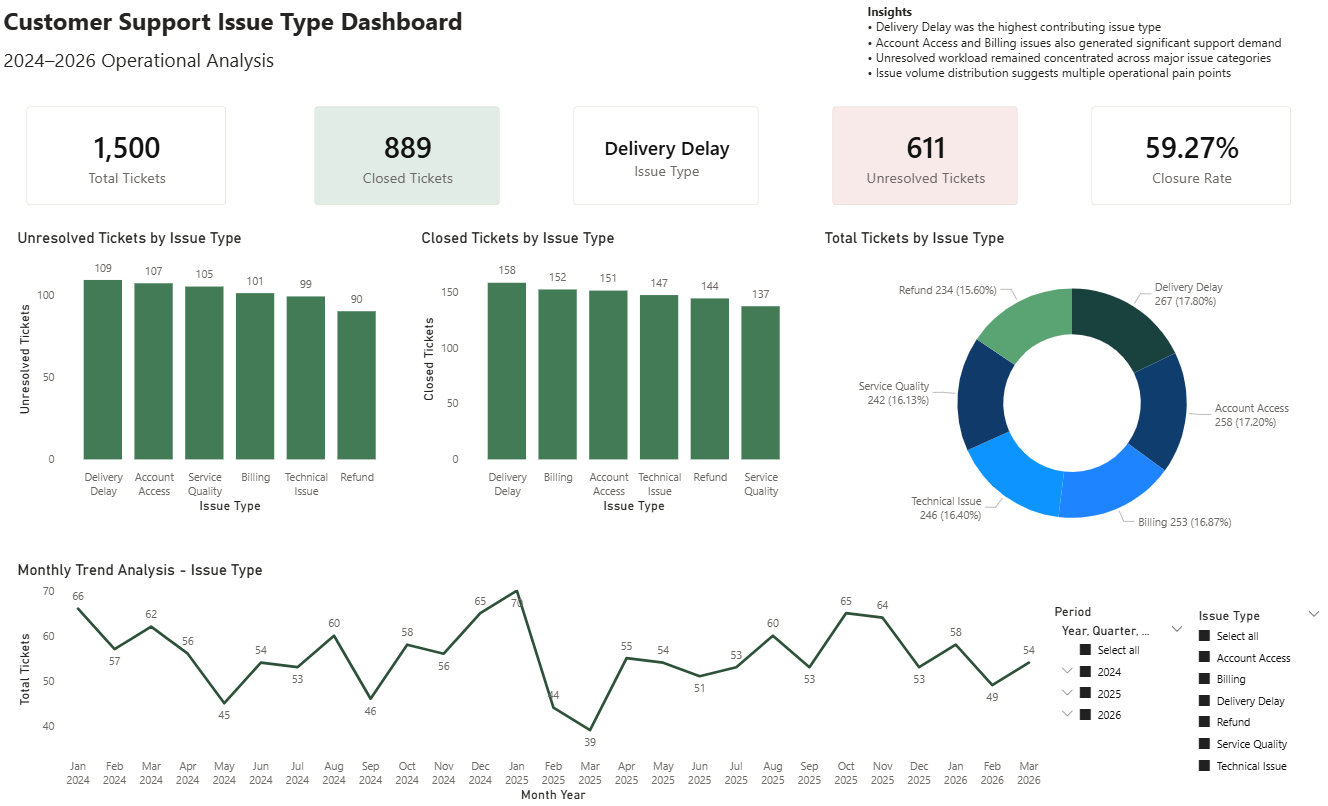

What the dashboard file says about the page in this screenshot:
{"tool":"powerbi","page":{"name":"Issue Type Analysis","canvas":[1480,900],"ordinal":1},"visuals":[{"type":"textbox","box":[0,0,1472,48],"z":0,"group":"g1"},{"type":"cardVisual","fields":{"Data":["support_tickets.Total Tickets"]},"box":[12.9,102.3,256,144],"z":0},{"type":"textbox","box":[0,48,1472,48],"z":1000,"group":"g1"},{"type":"cardVisual","fields":{"Data":["support_tickets.Top Issue Type"]},"box":[620.9,102.3,240,144],"z":1000},{"type":"cardVisual","fields":{"Data":["support_tickets.Closed Tickets"]},"box":[332.9,102.3,240,144],"z":2000},{"type":"cardVisual","fields":{"Data":["support_tickets.Unresolved Tickets"]},"box":[908.9,102.3,240,144],"z":3000},{"type":"cardVisual","fields":{"Data":["support_tickets.Closure Rate"]},"box":[1196.9,102.3,256,144],"z":4000},{"type":"columnChart","fields":{"Category":["support_tickets.issue_type"],"Y":["support_tickets.Unresolved Tickets"]},"box":[16,256,432,320],"z":5000},{"type":"columnChart","fields":{"Category":["support_tickets.issue_type"],"Y":["support_tickets.Closed Tickets"]},"box":[464,256,432,320],"z":6000},{"type":"lineChart","title":"Monthly Trend Analysis - Issue Type","fields":{"Category":["support_tickets.Month Year"],"Y":["support_tickets.Total Tickets"]},"box":[16,624,1152,272],"z":7000},{"type":"slicer","title":"Issue Type","fields":{"Values":["support_tickets.issue_type"]},"box":[1320,672,160,224],"z":8000},{"type":"slicer","title":"Period","fields":{"Values":["support_tickets.month_year.Variation.Date Hierarchy.Year","support_tickets.month_year.Variation.Date Hierarchy.Quarter","support_tickets.month_year.Variation.Date Hierarchy.Month","support_tickets.month_year.Variation.Date Hierarchy.Day"]},"box":[1168,672,160,224],"z":9000},{"type":"group","id":"g1","title":"Group 1","box":[0,0,1472,96],"z":10000},{"type":"donutChart","fields":{"Category":["support_tickets.issue_type"],"Y":["support_tickets.Total Tickets"]},"box":[912,256,560,368],"z":11000},{"type":"textbox","box":[960,0,496,96],"z":12000}]}

Visuals, with their boxes in screenshot pixels (x1, y1, x2, y2), scaled from the page's 1480x900 canvas onto the 1328x806 screenshot:
textbox: left=0, top=0, right=1321, bottom=43
cardVisual - support_tickets.Total Tickets: left=12, top=92, right=241, bottom=221
textbox: left=0, top=43, right=1321, bottom=86
cardVisual - support_tickets.Top Issue Type: left=557, top=92, right=772, bottom=221
cardVisual - support_tickets.Closed Tickets: left=299, top=92, right=514, bottom=221
cardVisual - support_tickets.Unresolved Tickets: left=816, top=92, right=1031, bottom=221
cardVisual - support_tickets.Closure Rate: left=1074, top=92, right=1304, bottom=221
columnChart - support_tickets.issue_type x support_tickets.Unresolved Tickets: left=14, top=229, right=402, bottom=516
columnChart - support_tickets.issue_type x support_tickets.Closed Tickets: left=416, top=229, right=804, bottom=516
"Monthly Trend Analysis - Issue Type" lineChart: left=14, top=559, right=1048, bottom=802
"Issue Type" slicer: left=1184, top=602, right=1327, bottom=802
"Period" slicer: left=1048, top=602, right=1192, bottom=802
"Group 1" group: left=0, top=0, right=1321, bottom=86
donutChart - support_tickets.issue_type x support_tickets.Total Tickets: left=818, top=229, right=1321, bottom=559
textbox: left=861, top=0, right=1306, bottom=86
